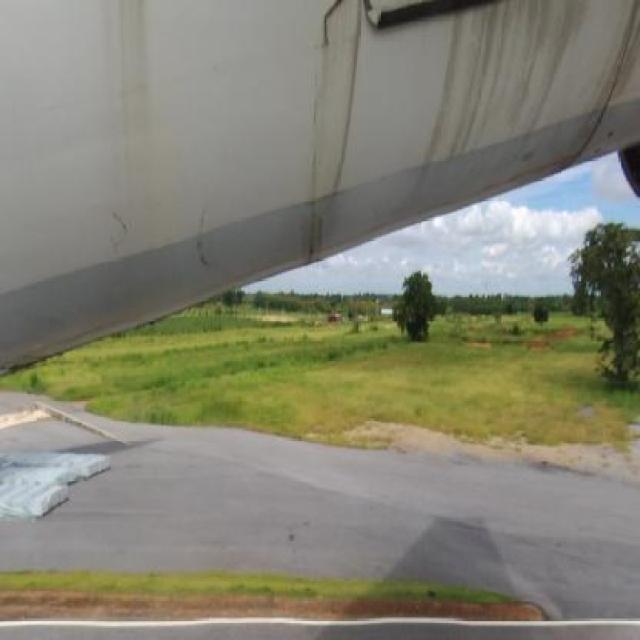Rust: (399, 2, 638, 213), (295, 1, 370, 272), (93, 2, 187, 185), (100, 198, 257, 304)
